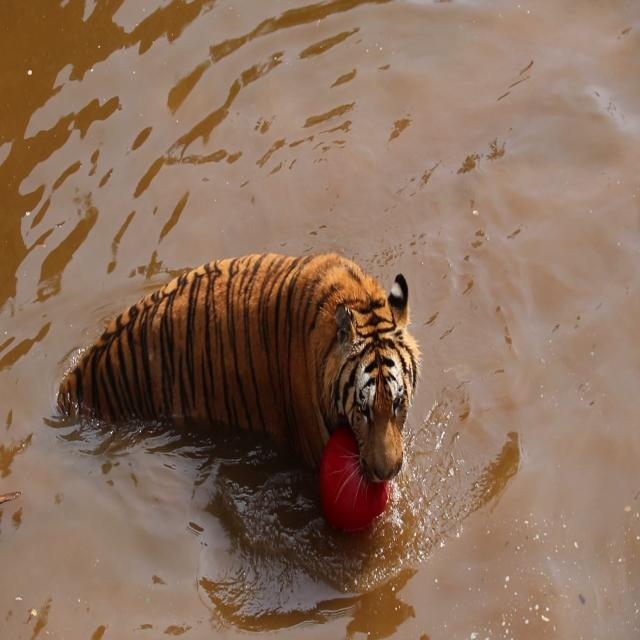Tiger: (50, 209, 484, 625)
